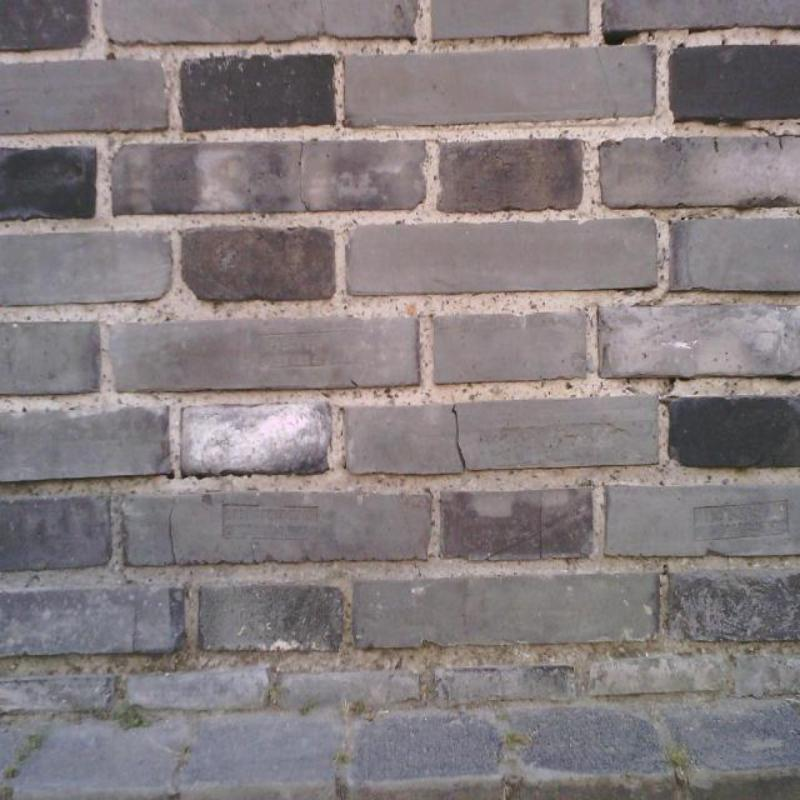pothole: (451, 405, 466, 468), (299, 142, 311, 211), (169, 508, 177, 563), (605, 32, 636, 45), (745, 127, 776, 136), (539, 492, 543, 557)
